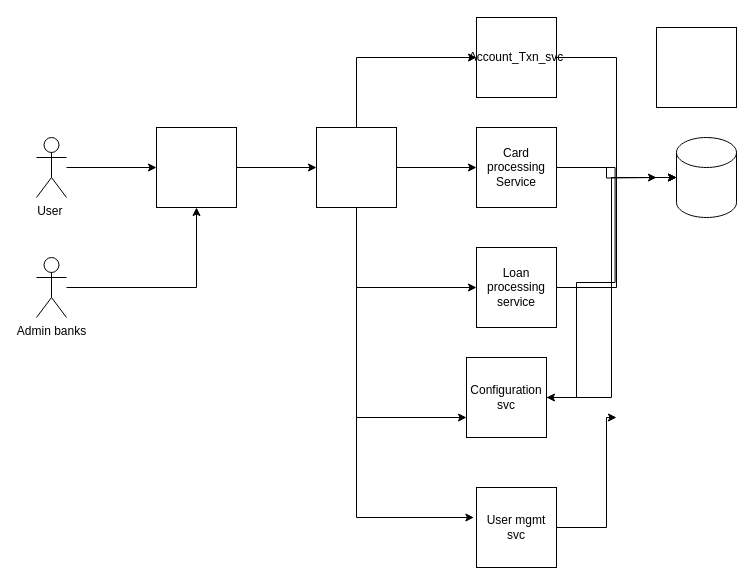
Image size: 754x585. Some labels were removed from this diagram. Here are the shapes that lost their labels. From the top down, the centre of each, then its label:
point 696,67: Caching Layer
point 196,167: UI
point 356,167: Bank Gateway
point 706,177: Mysql
